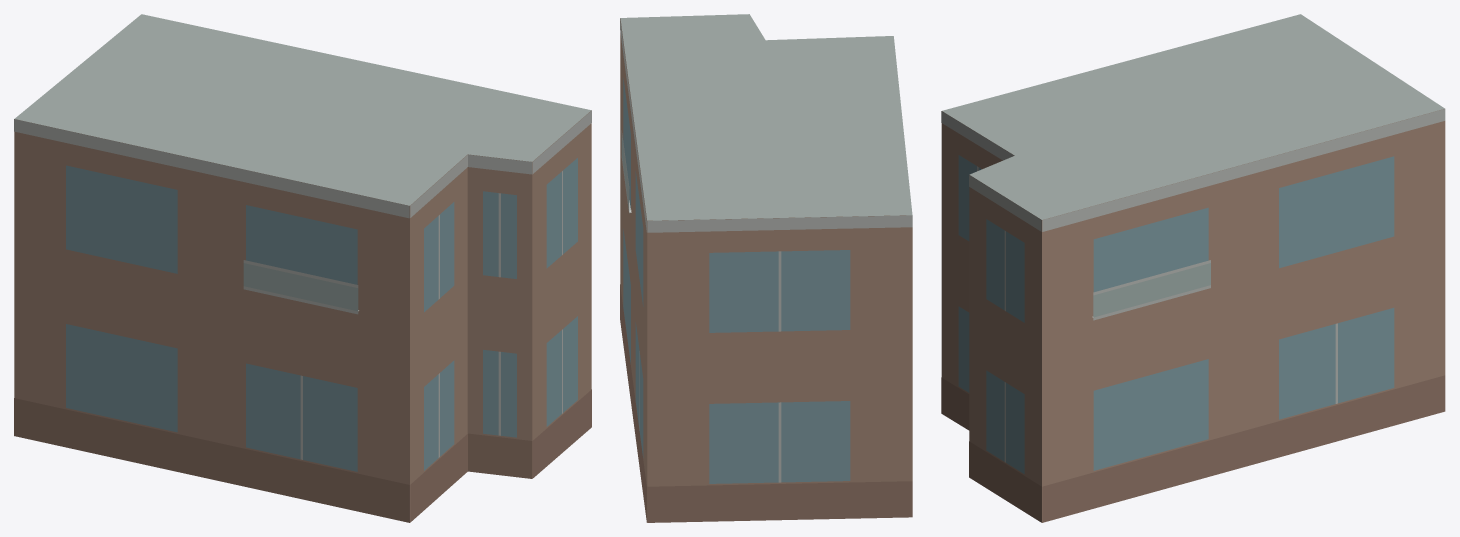
File: survey-upis-32766252.glb
3 views of the same model, side by side, from view 1: azimuth 30°, elevation 25°; view 2: azimuth 150°, elevation 25°; view 3: azimuth 270°, elevation 25° (orthographic). The views are drawn at different scales.
Parts seen in each view (by area): view 1: survey-upis-32766252.tmp; view 2: survey-upis-32766252.tmp; view 3: survey-upis-32766252.tmp.
Part boxes in pixels (x1,y1,x2,y2): survey-upis-32766252.tmp: (14,14,591,522); survey-upis-32766252.tmp: (620,14,912,522); survey-upis-32766252.tmp: (941,14,1445,522).
Bounding box in the file's own units: 8.91 × 6.1 × 9.2.
